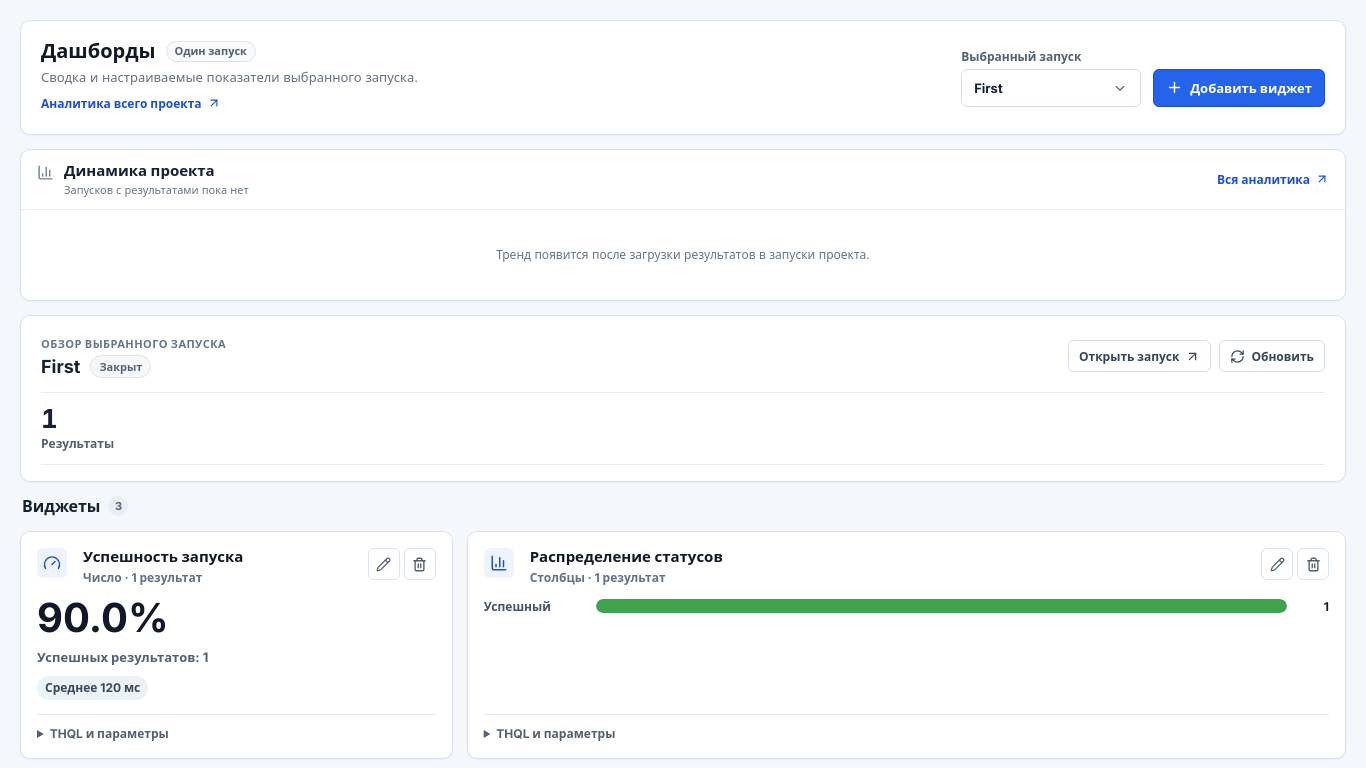
Test case: dashboard aggregate states › restores the selected launch after leaving and returning to the dashboard
Select "Second" in the dropdown labelled "Выбранный запуск": coordinates (1051, 88) x1=961 y1=69 x2=1141 y2=107
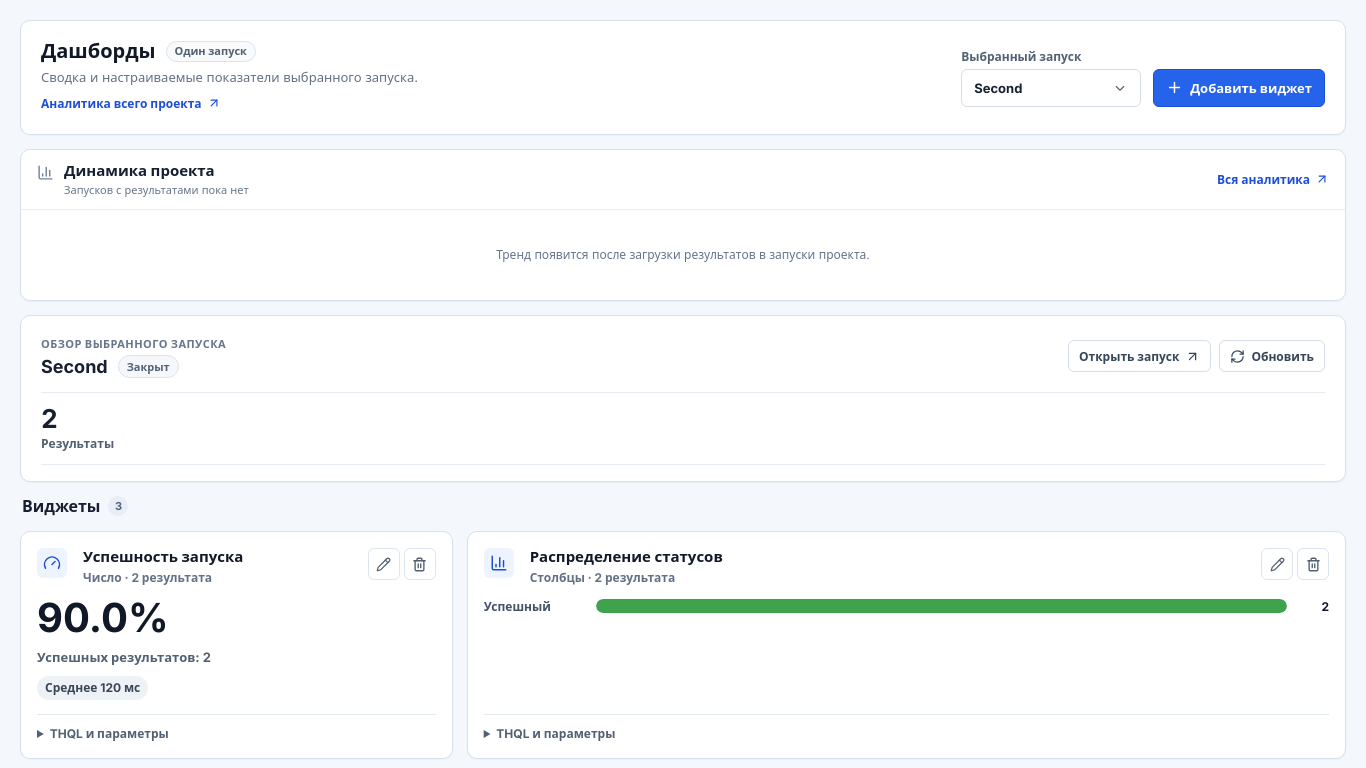
Check: the heading "Second" is shown, box x1=41 y1=355 x2=108 y2=378
Check: the dropdown labelled "Выбранный запуск" shows "Second", box x1=961 y1=69 x2=1141 y2=107
